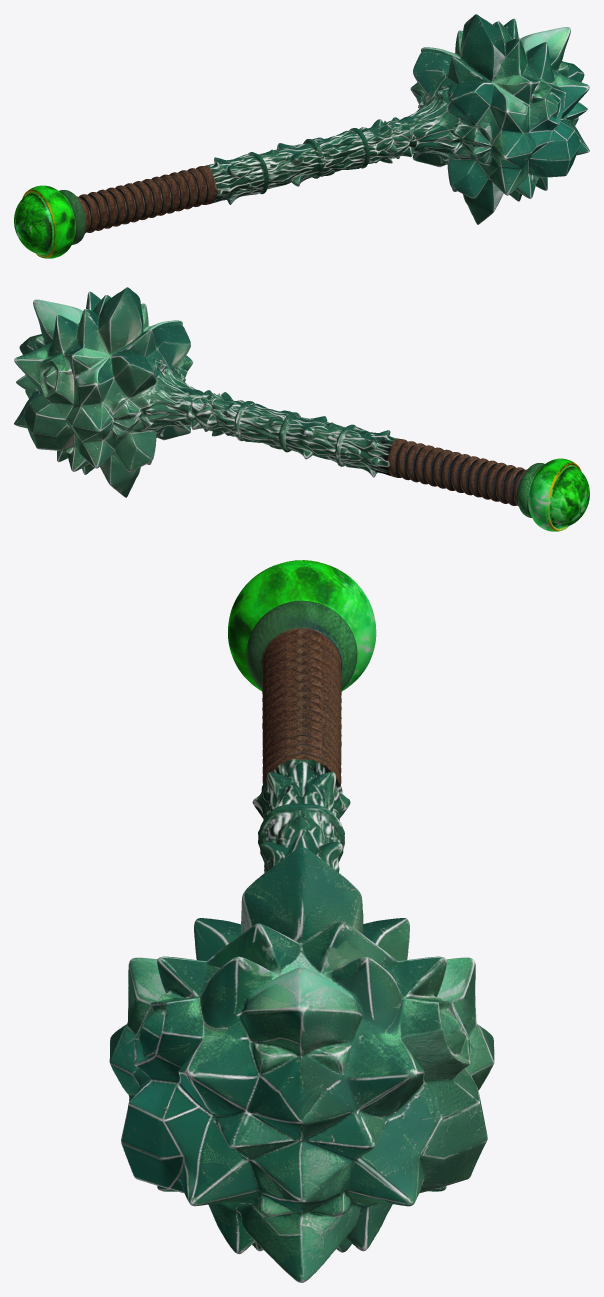
The model's file is Sorcerer_Mace.fbx.
3 renders of one model, top to bottom at view 1: azimuth 30°, elevation 25°; view 2: azimuth 150°, elevation 25°; view 3: azimuth 270°, elevation 25°, orthographic. The views are drawn at different scales.
Visible parts, largest first — view 1: Mesh_0; view 2: Mesh_0; view 3: Mesh_0.
Boxes of the visible parts, x1,y1,x2,y2 form: Mesh_0: (14,14,589,258); Mesh_0: (14,287,589,531); Mesh_0: (109,560,494,1282).
Bounding box in the file's own units: 190 × 67.52 × 55.99.
1 material, 1 textured.
